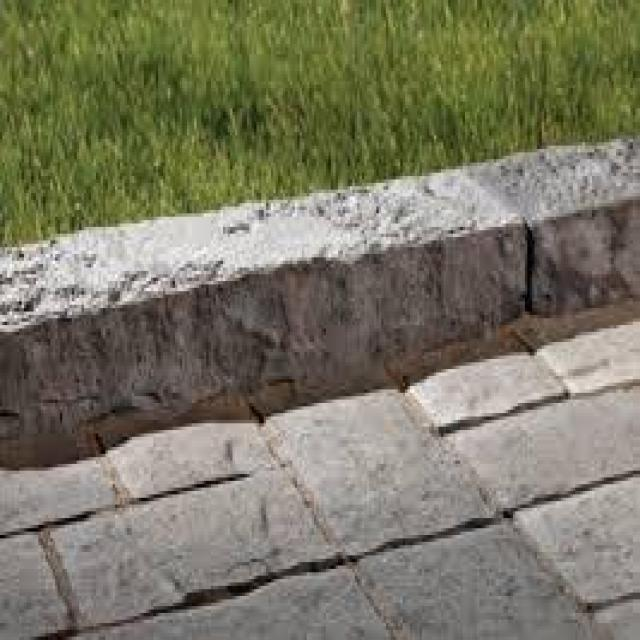curb: (1, 124, 638, 416)
